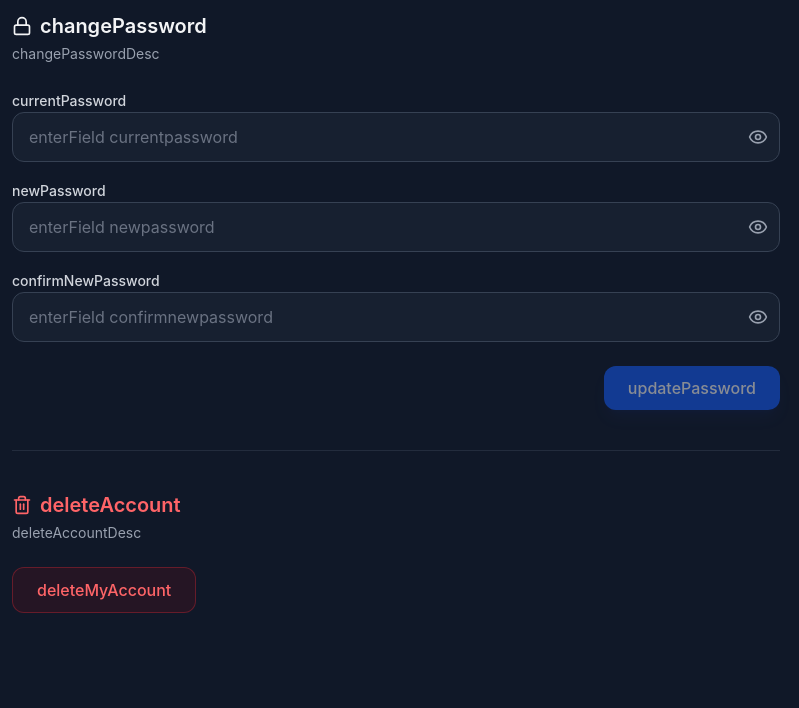
Test: SecuritySettings — password change (email user) › shows errPassMin6 when new password is too short
Step 1. Type "old1234" into the password field labelled "currentPassword" → (396, 137), box left=12, top=112, right=780, bottom=162
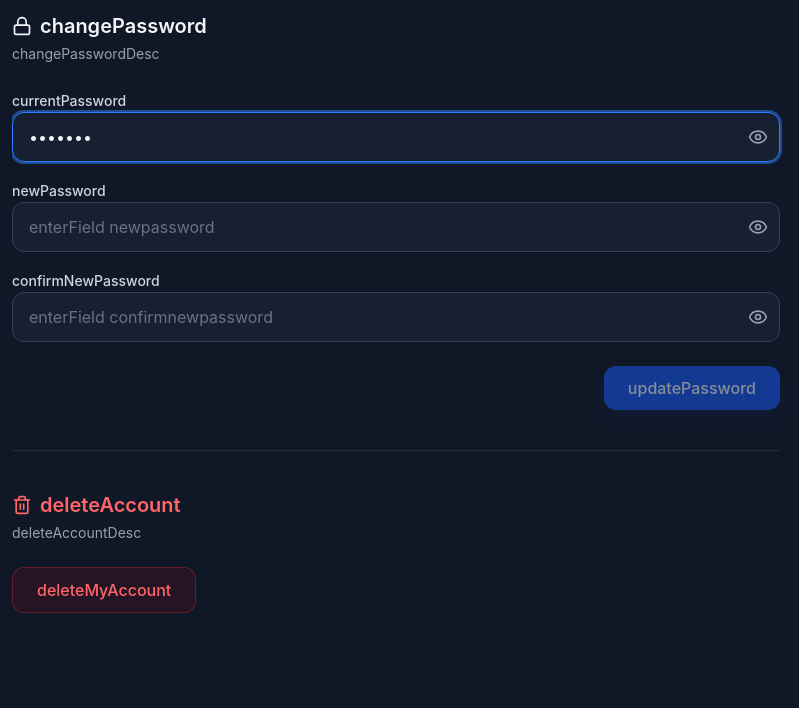
Step 2. Type "abc" into the password field labelled "newPassword" → (396, 227), box left=12, top=202, right=780, bottom=252
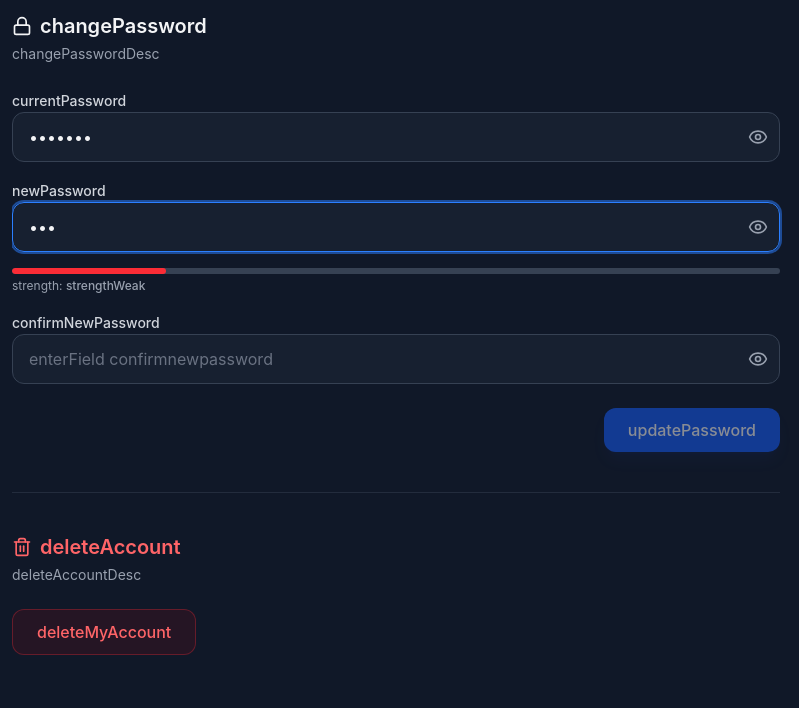
Step 3. Type "abc" into the password field labelled "confirmNewPassword" → (396, 359), box left=12, top=334, right=780, bottom=384
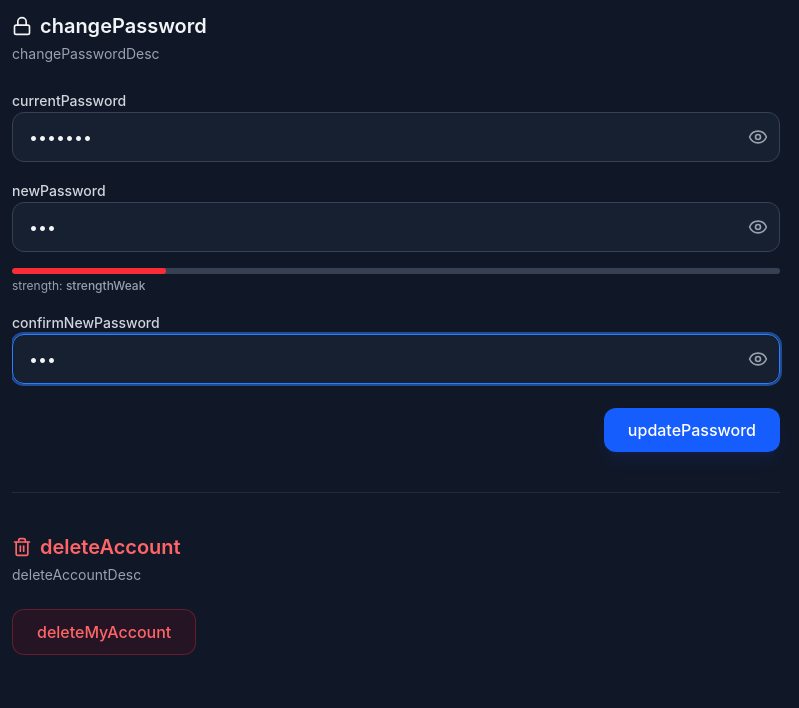
Step 4. Click the button "updatePassword" → (692, 430), box left=604, top=408, right=780, bottom=452
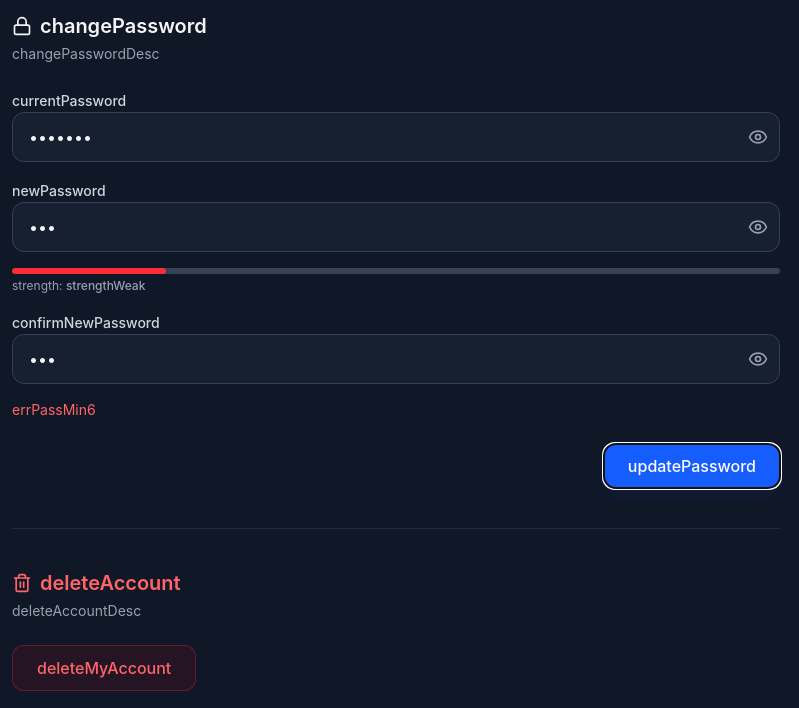
Expected: the text "errPassMin6" is shown, left=12, top=401, right=96, bottom=418
